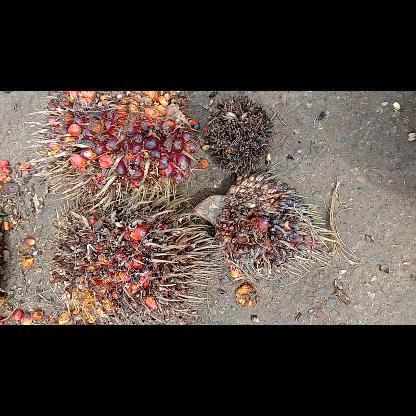TBS abnormal: (193, 172, 339, 284), (203, 94, 275, 174)
TBS masak: (27, 91, 193, 204)
Terlalu masak: (48, 194, 224, 322)
